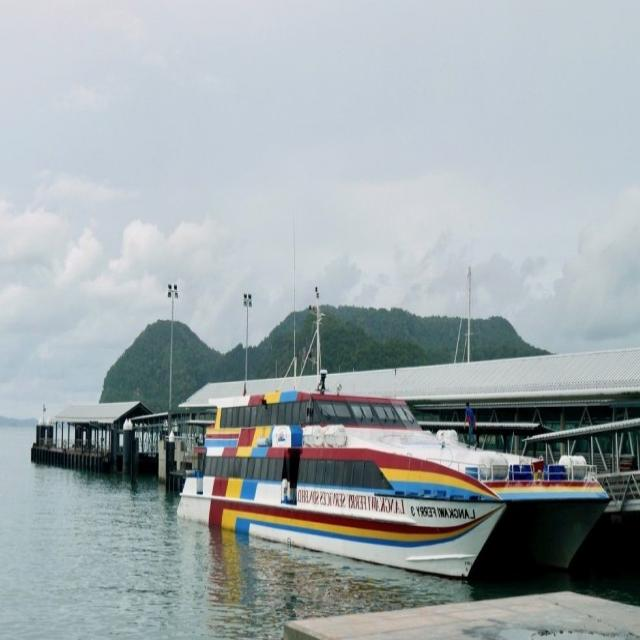houseboat: (170, 304, 601, 584)
